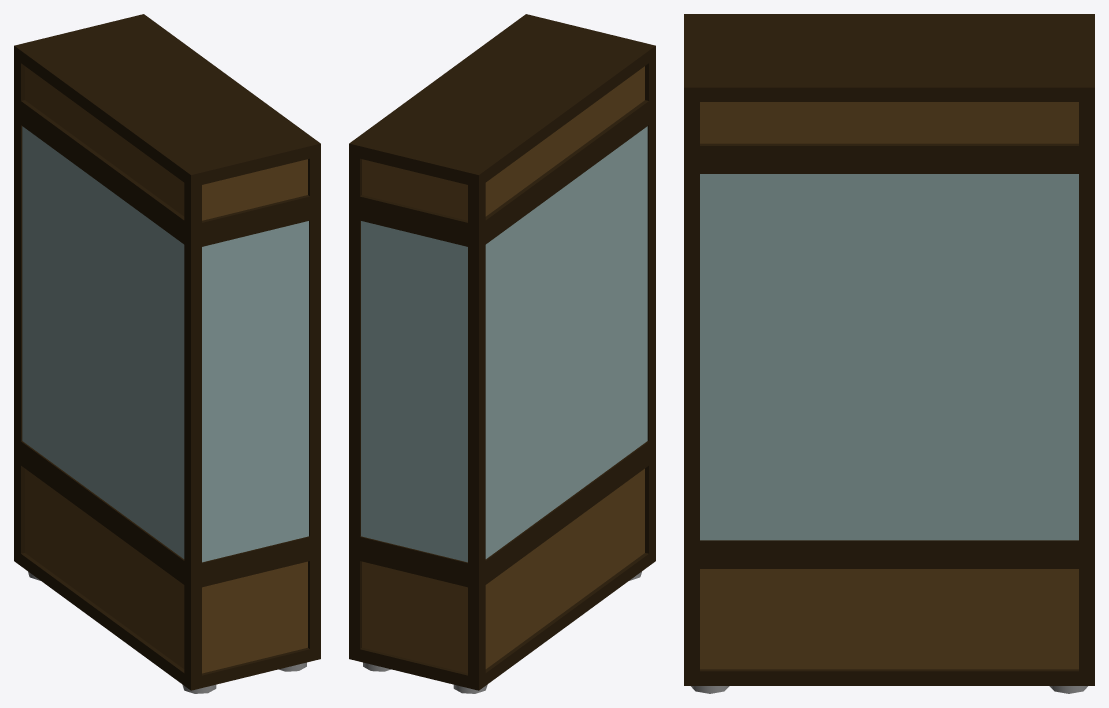
Rendered from Prateleira_1.fbx.
3 renders of one model, left to right at view 1: azimuth 30°, elevation 25°; view 2: azimuth 150°, elevation 25°; view 3: azimuth 270°, elevation 25°, orthographic. The views are drawn at different scales.
Parts seen in each view (by area): view 1: Prateleira_01; view 2: Prateleira_01; view 3: Prateleira_01.
Boxes of the visible parts, bbox=[...] form: Prateleira_01: bbox=[14, 14, 320, 693]; Prateleira_01: bbox=[349, 14, 655, 693]; Prateleira_01: bbox=[684, 14, 1094, 693].
Size of the model in its own units: 120 by 464 by 283.
